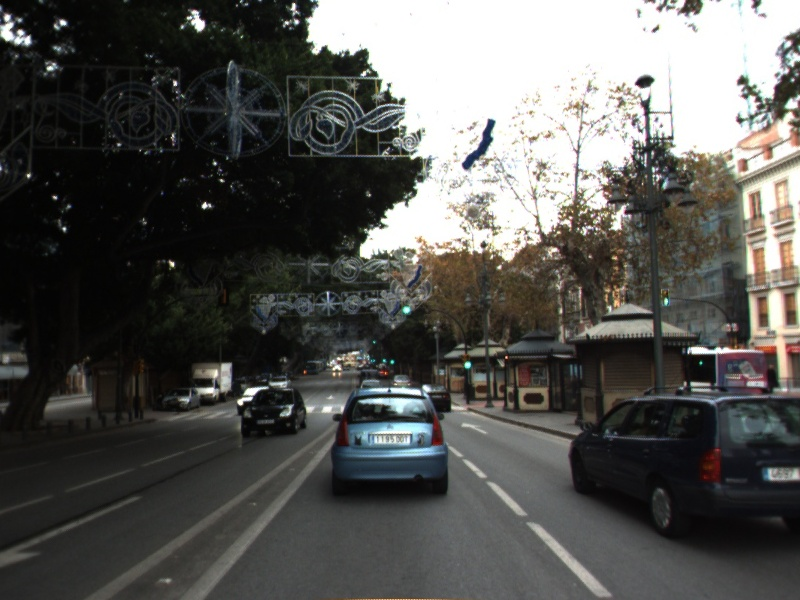STRAIGHT: (459, 421, 490, 436)
